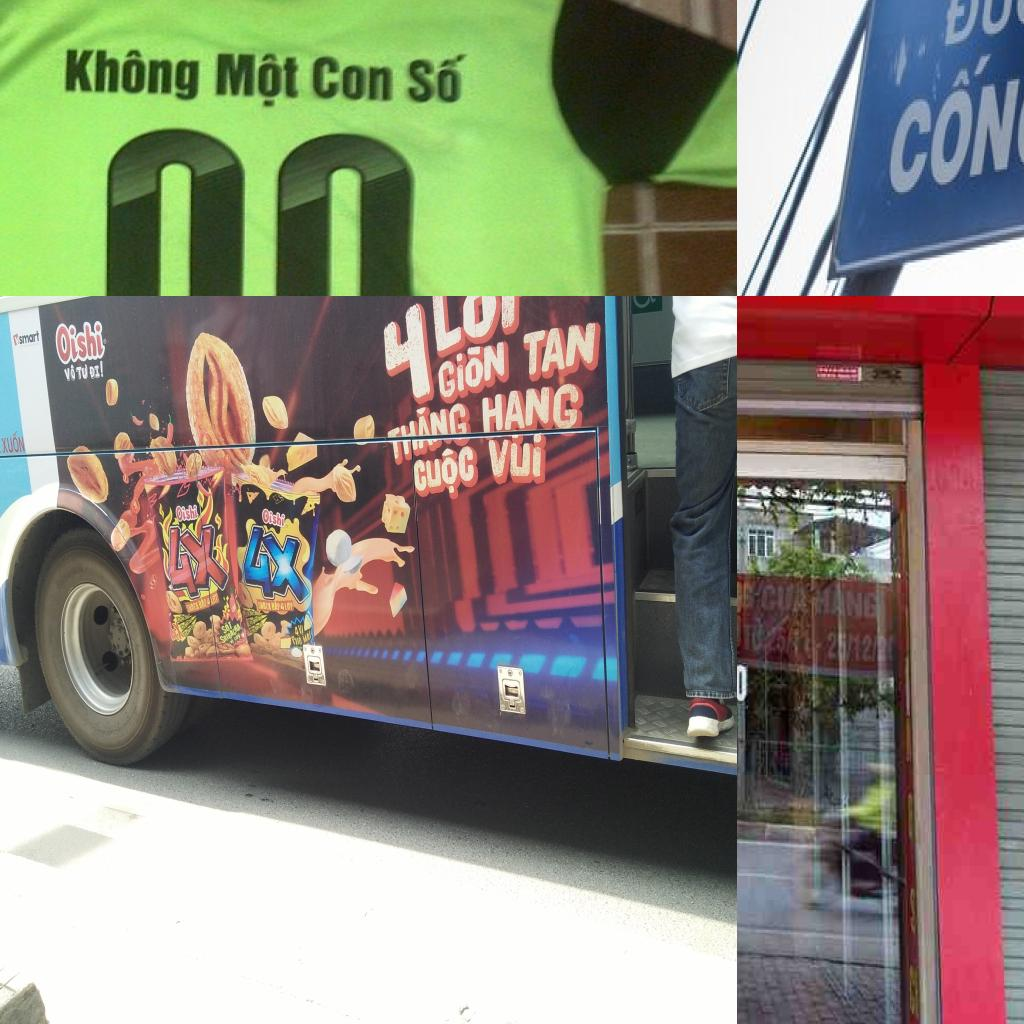text: (91, 123, 429, 296), (875, 31, 1024, 207), (58, 42, 206, 103), (426, 296, 548, 359), (480, 379, 583, 443), (210, 46, 308, 112), (379, 298, 435, 412), (240, 521, 313, 606), (160, 520, 232, 604), (434, 334, 511, 405), (520, 317, 600, 381), (309, 50, 400, 106), (412, 439, 480, 507), (401, 49, 471, 108), (380, 401, 474, 440), (51, 317, 108, 365), (814, 587, 882, 620), (761, 582, 811, 617), (737, 655, 752, 705), (0, 428, 26, 455), (262, 507, 287, 529), (218, 623, 242, 645), (175, 503, 200, 523), (12, 329, 40, 346), (166, 620, 185, 645), (62, 362, 77, 384), (827, 631, 838, 661), (74, 362, 90, 382), (88, 360, 104, 380), (220, 618, 234, 635), (184, 600, 200, 614), (196, 595, 208, 610), (257, 600, 272, 610), (302, 629, 312, 644), (209, 592, 220, 605), (290, 635, 303, 646), (271, 601, 281, 612), (285, 601, 293, 612), (230, 604, 238, 614), (298, 623, 304, 636), (206, 596, 212, 608), (234, 633, 242, 642), (246, 618, 254, 627), (251, 616, 259, 625), (294, 625, 300, 637), (179, 623, 186, 632), (183, 620, 190, 629), (249, 626, 256, 635), (254, 623, 261, 632), (244, 609, 251, 617), (175, 615, 182, 623), (229, 637, 235, 646), (180, 614, 186, 622), (183, 630, 189, 638), (186, 626, 192, 634), (249, 610, 255, 617), (254, 609, 260, 616), (257, 615, 263, 622), (189, 623, 195, 630), (259, 621, 264, 629), (280, 602, 284, 612), (184, 614, 190, 620), (188, 618, 194, 624)
